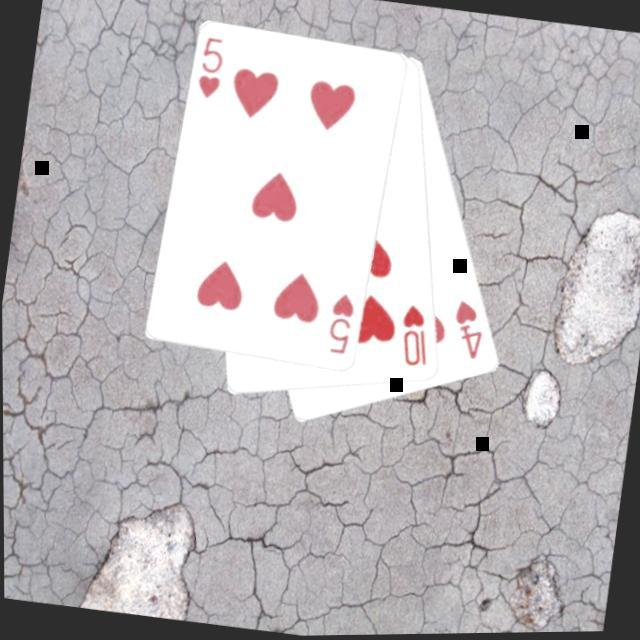10H: (393, 303, 438, 374)
4H: (446, 298, 491, 367)
5H: (193, 34, 230, 104), (324, 291, 360, 360)
